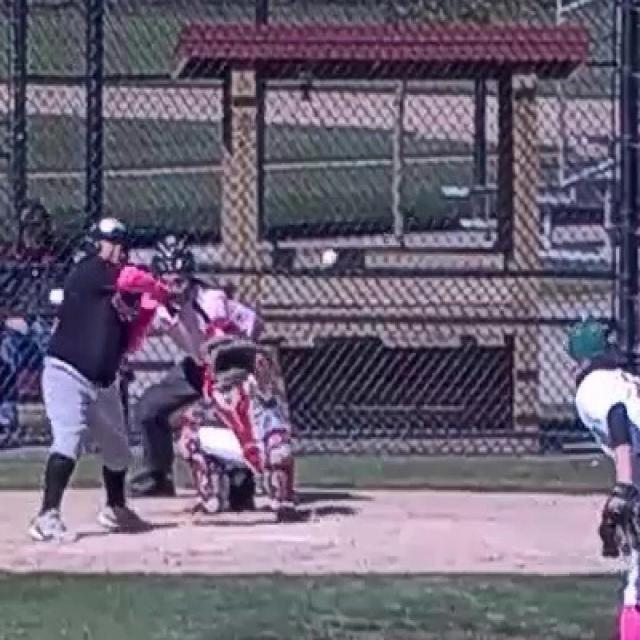baseball: (323, 251, 337, 265)
